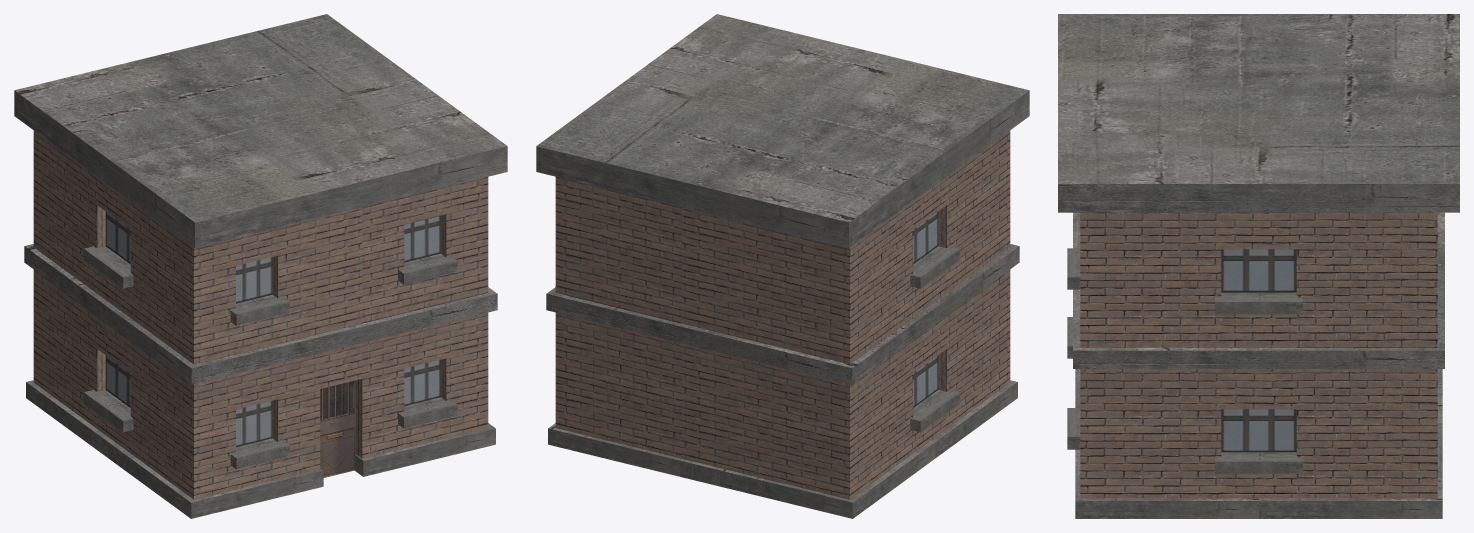
File: Building02B2.fbx
3 views of the same model, side by side, from view 1: azimuth 30°, elevation 25°; view 2: azimuth 150°, elevation 25°; view 3: azimuth 270°, elevation 25° (orthographic). The views are drawn at different scales.
Visible parts, largest first — view 1: UB; view 2: UB; view 3: UB.
Boxes of the visible parts, <box> form: UB: <box>14,14,507,518</box>; UB: <box>536,14,1029,518</box>; UB: <box>1058,14,1459,518</box>.
Bounding box in the file's own units: 3.22 × 2.97 × 3.21.
